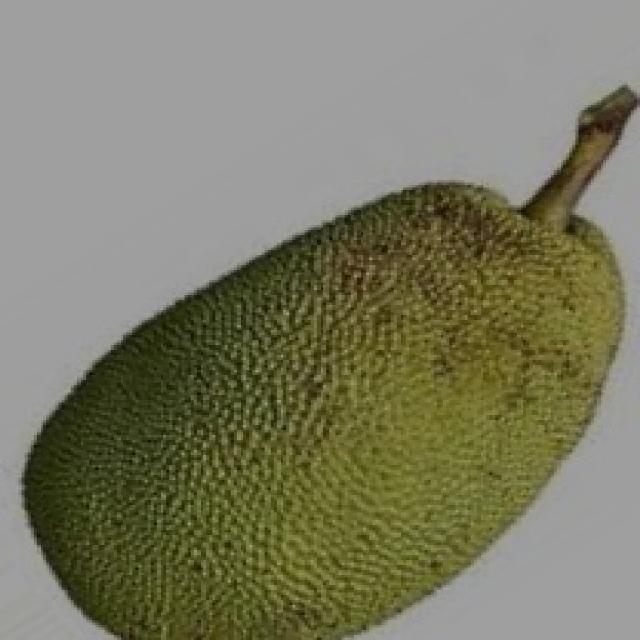Fruit: (243, 160, 640, 615), (0, 272, 375, 639)
